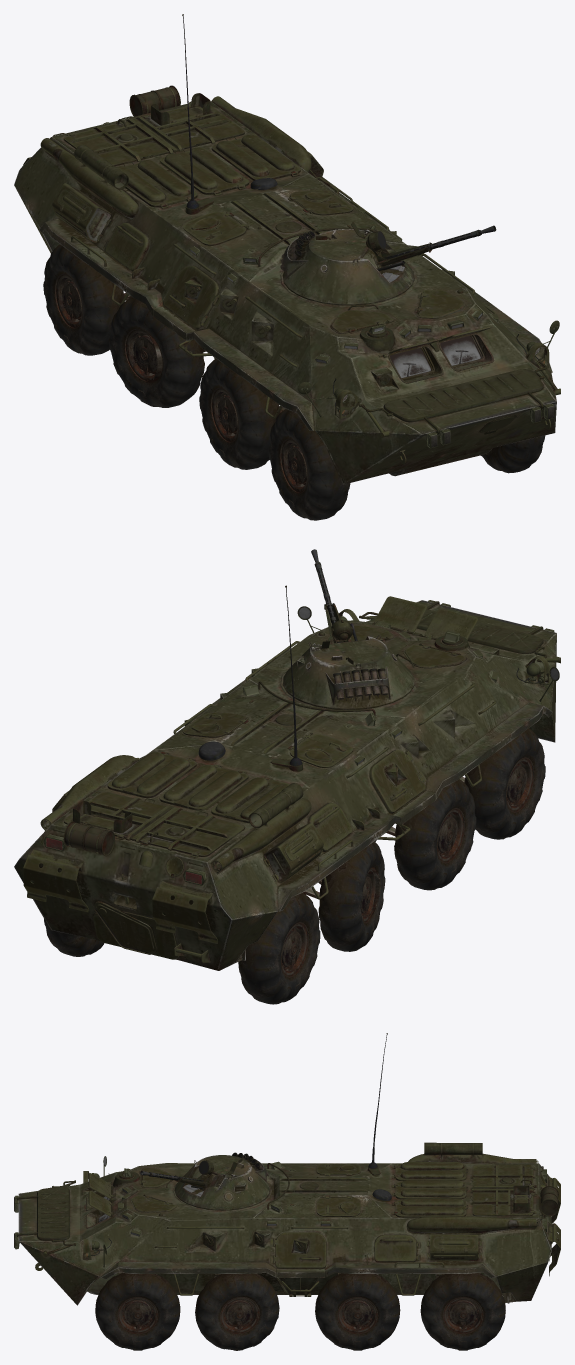
The model's file is btr.glb.
3 renders of one model, top to bottom at view 1: azimuth 30°, elevation 25°; view 2: azimuth 150°, elevation 25°; view 3: azimuth 270°, elevation 25°, orthographic. The views are drawn at different scales.
Visible parts, largest first — view 1: MainFrame, Wheels, Turret; view 2: MainFrame, Wheels, Turret; view 3: MainFrame, Wheels, Turret.
Part boxes in pixels (box(x1,y1,x2,y2)): MainFrame: box(14, 14, 560, 484); Wheels: box(43, 244, 545, 520); Turret: box(280, 222, 496, 305); MainFrame: box(14, 585, 560, 970); Wheels: box(44, 728, 545, 1004); Turret: box(283, 549, 414, 709); MainFrame: box(14, 1033, 560, 1305); Wheels: box(95, 1272, 505, 1350); Turret: box(140, 1152, 269, 1210).
Bounding box in the file's own units: 3.61 × 4.79 × 9.03.
4 materials, 4 textured.
